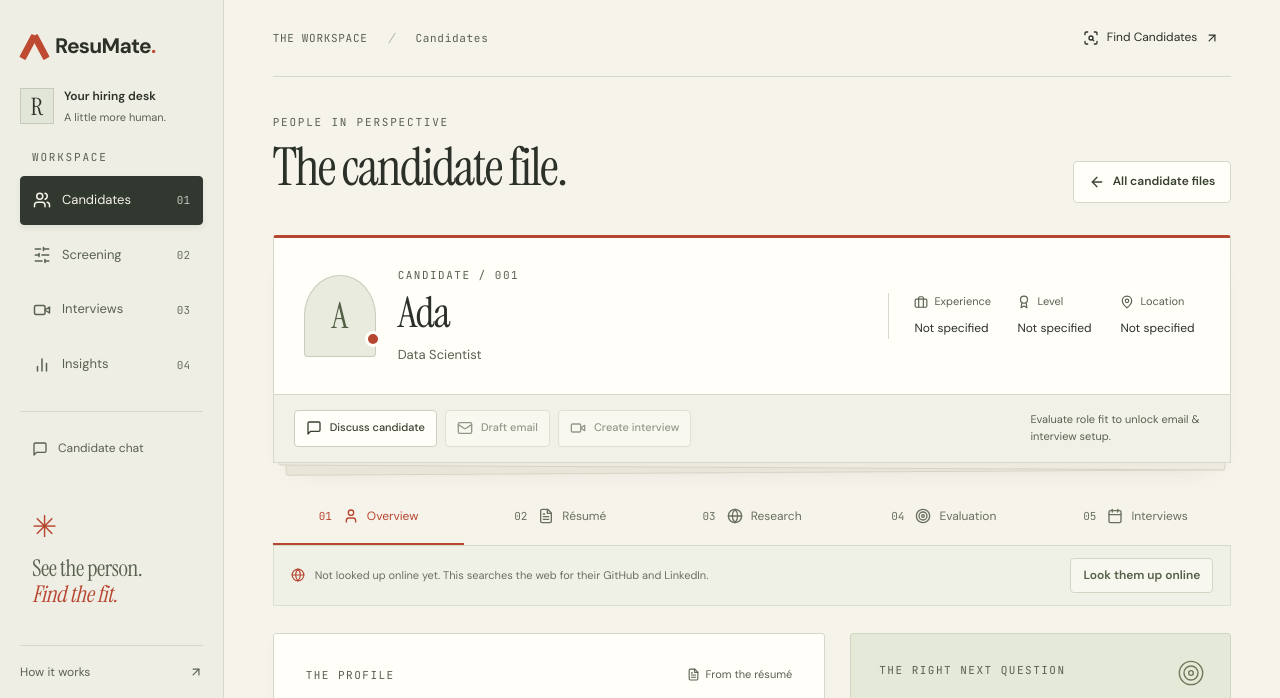
Test: the chat › opens on the résumé alone, ready to ask
This screenshot has width=1280, height=698.
Click the button "Discuss candidate" at (365, 428), box [294,410,437,447]
(page scrolled)
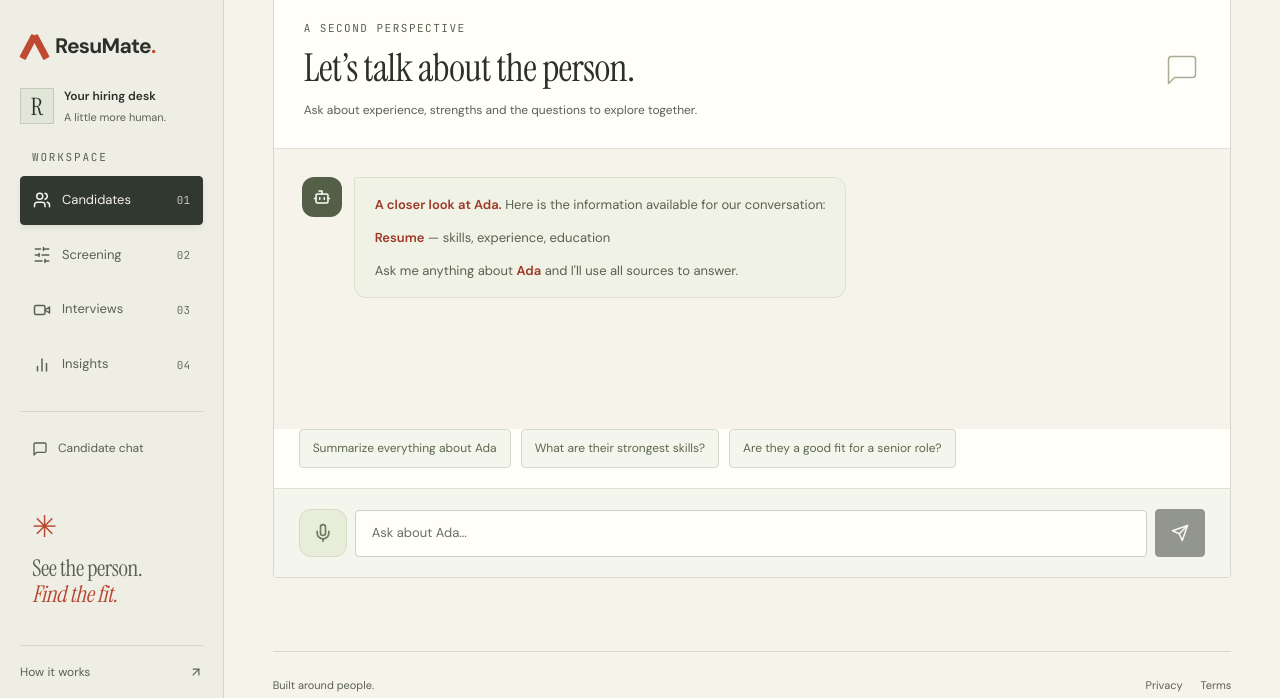
Expected: the field labelled "Ask about Ada" is enabled
Type "What does Ada build?" into the field labelled "Ask about Ada" at (751, 533), box [355,510,1147,557]
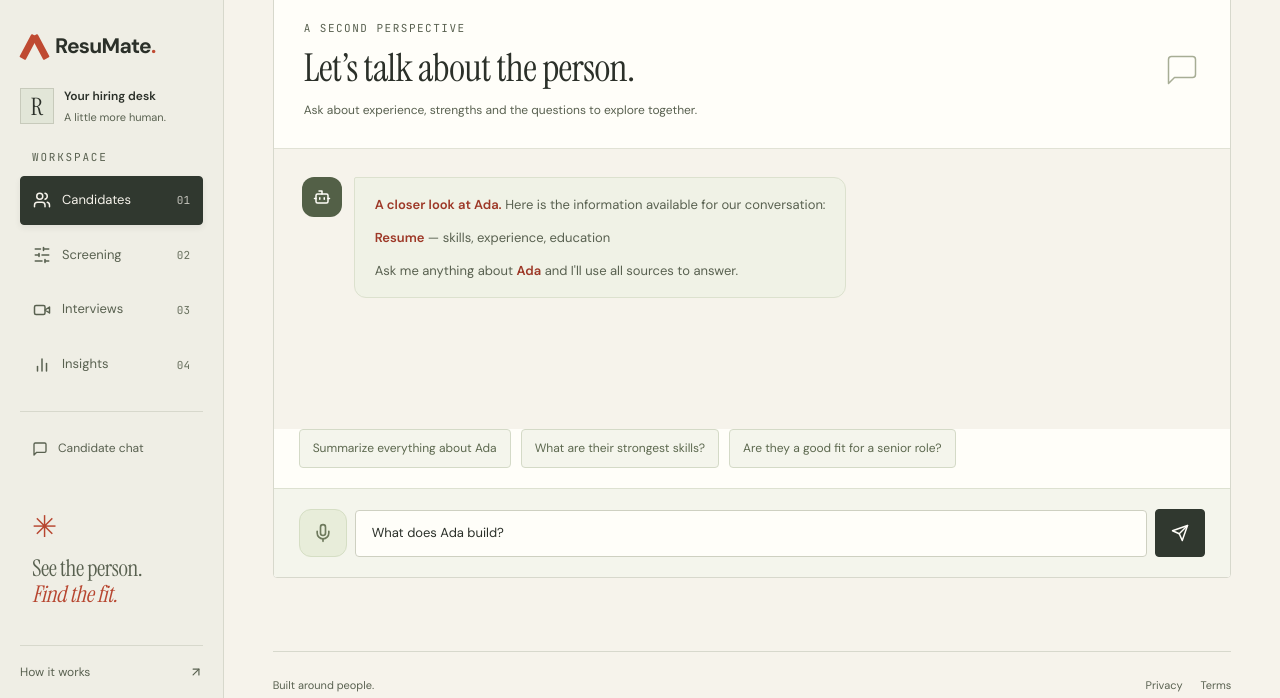
Click the button named "Send" at (1180, 533), box [1155,509,1205,557]
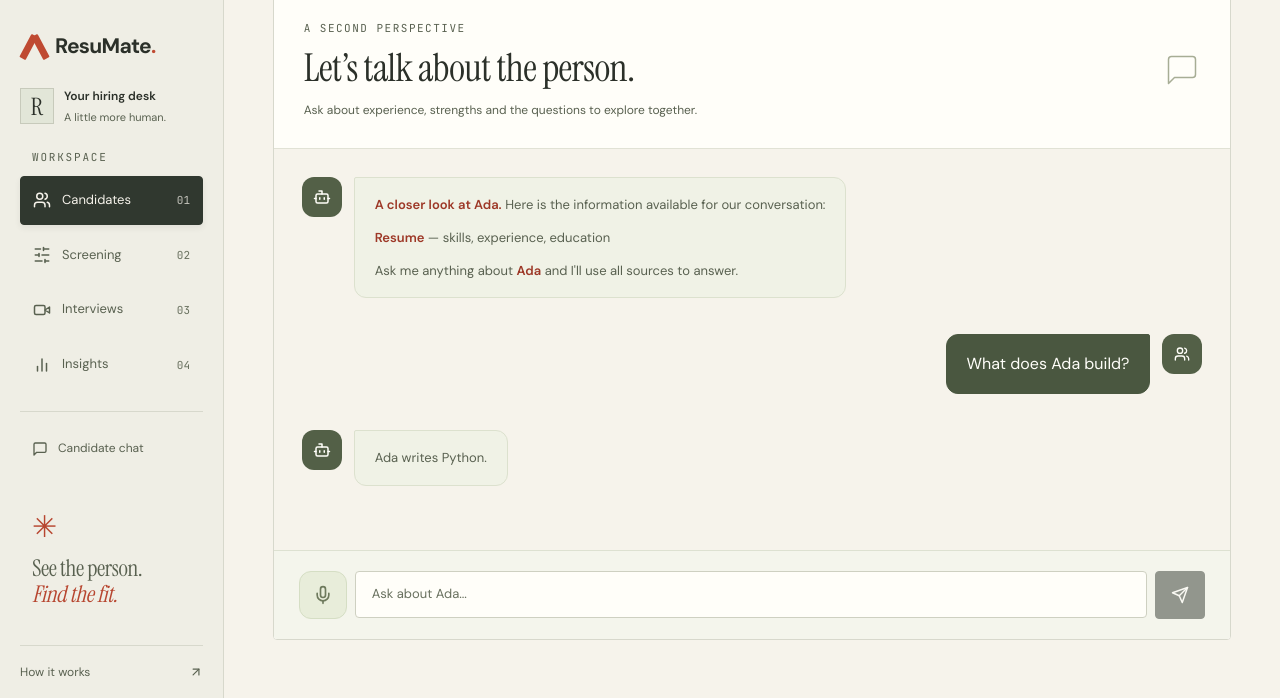
Expected: the text "Ada writes Python." is shown, [375,448,487,469]
